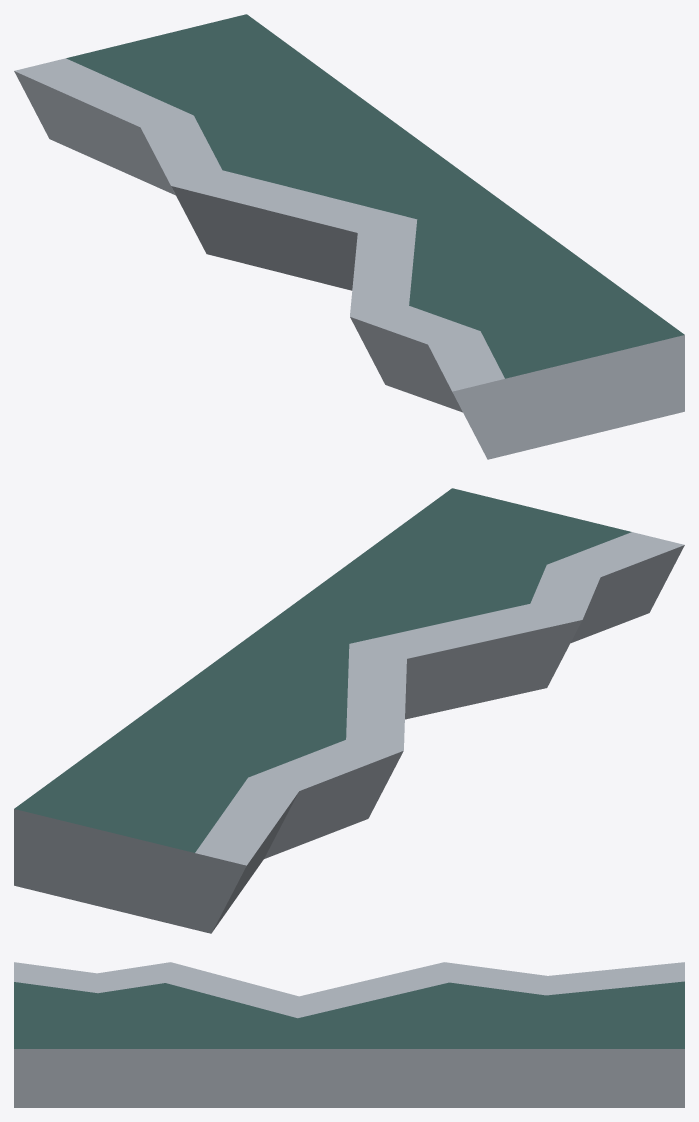
File: naturePack_096.obj
3 views of the same model, one above another, from view 1: azimuth 30°, elevation 25°; view 2: azimuth 150°, elevation 25°; view 3: azimuth 270°, elevation 25° (orthographic). The views are drawn at different scales.
Visible parts, largest first — view 1: Mesh1_Grey_Cliff_Top_Model; view 2: Mesh1_Grey_Cliff_Top_Model; view 3: Mesh1_Grey_Cliff_Top_Model.
Part boxes in pixels (<box>): Mesh1_Grey_Cliff_Top_Model: <box>14,14,684,459</box>; Mesh1_Grey_Cliff_Top_Model: <box>14,488,684,933</box>; Mesh1_Grey_Cliff_Top_Model: <box>14,962,684,1107</box>.
Size of the model in its own units: 0.92 by 0.29 by 3.
